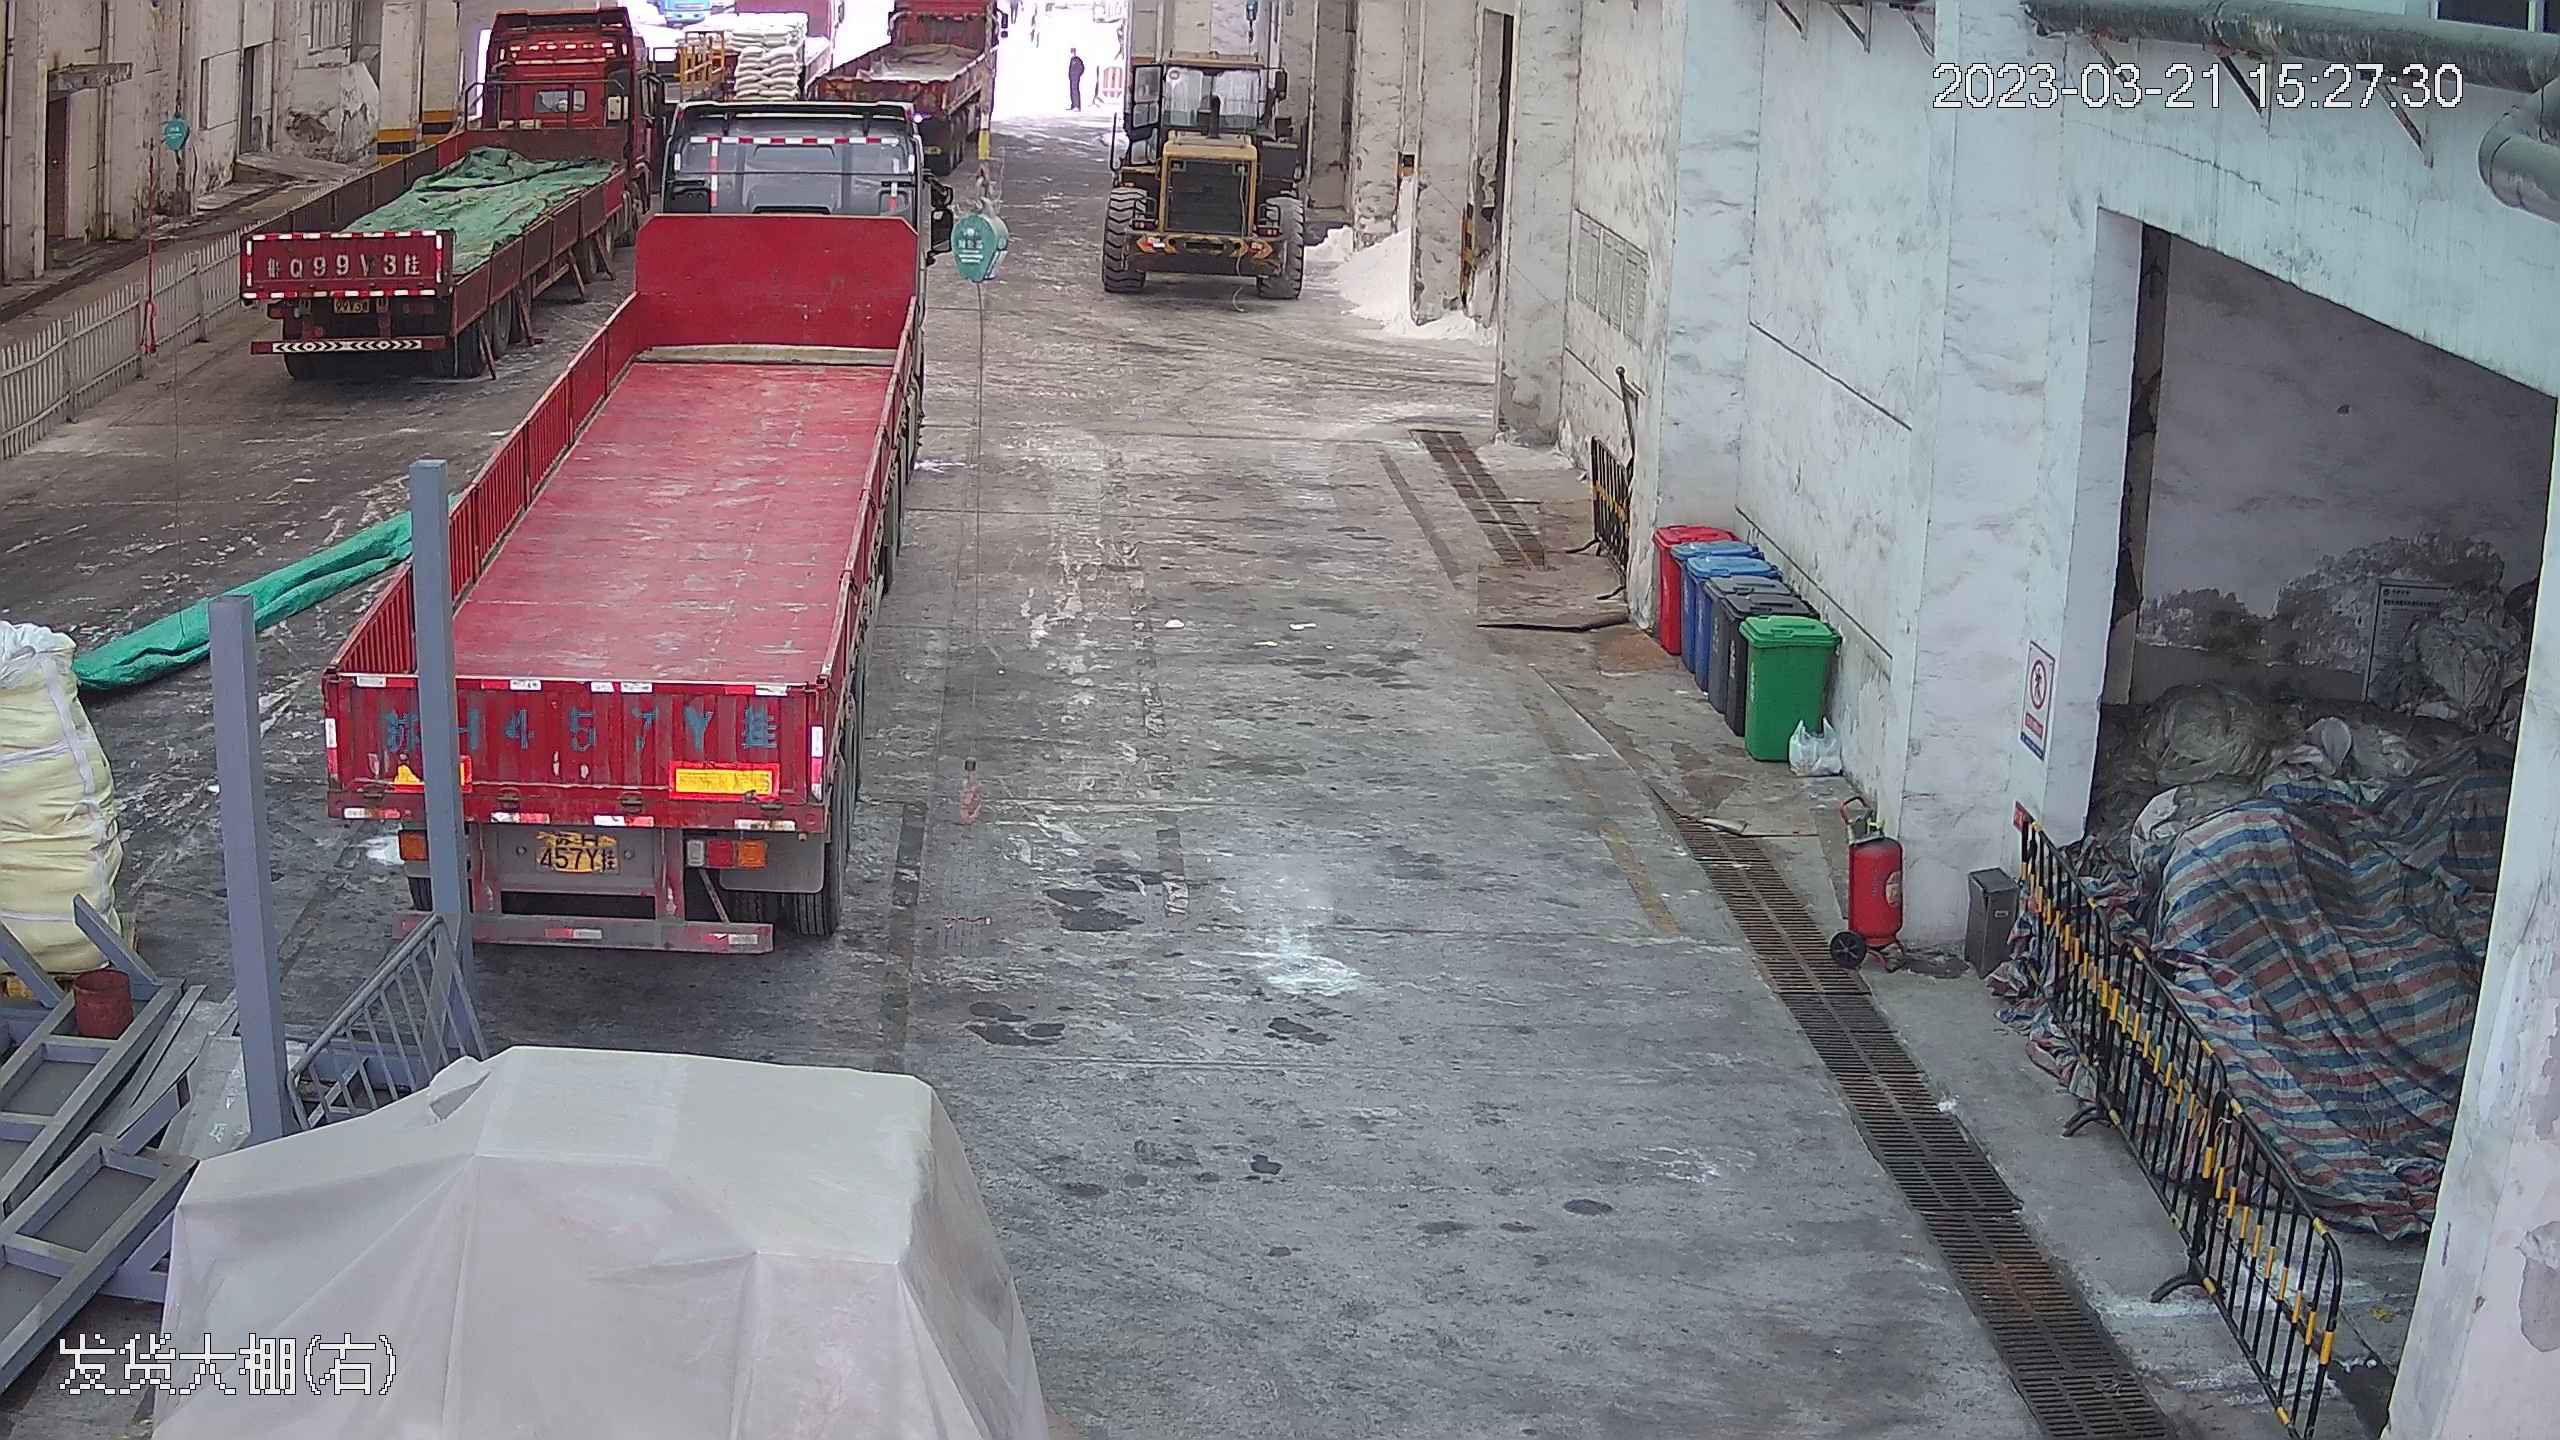head: (388, 762, 429, 822), (1067, 39, 1090, 67)
helmet: (392, 763, 419, 787)
people: (387, 757, 436, 922), (1063, 36, 1094, 111)
truck: (366, 56, 955, 957), (219, 3, 663, 380), (822, 3, 1017, 158)
